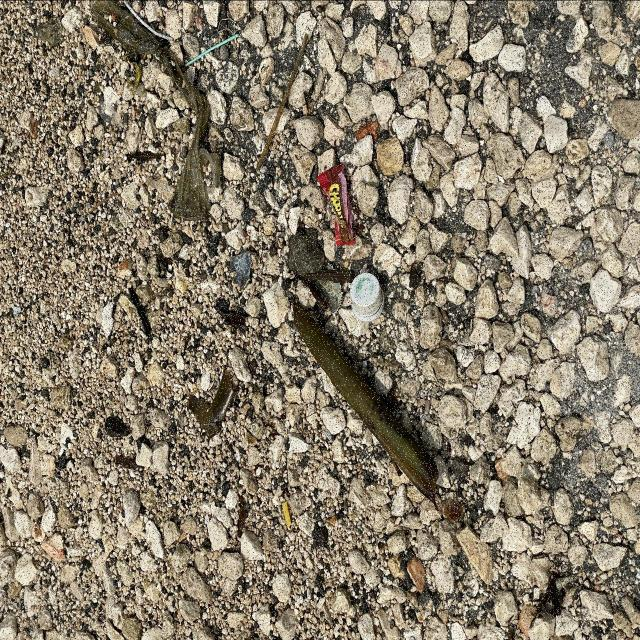plastic_waste: (318, 163, 358, 249), (351, 273, 386, 323)
